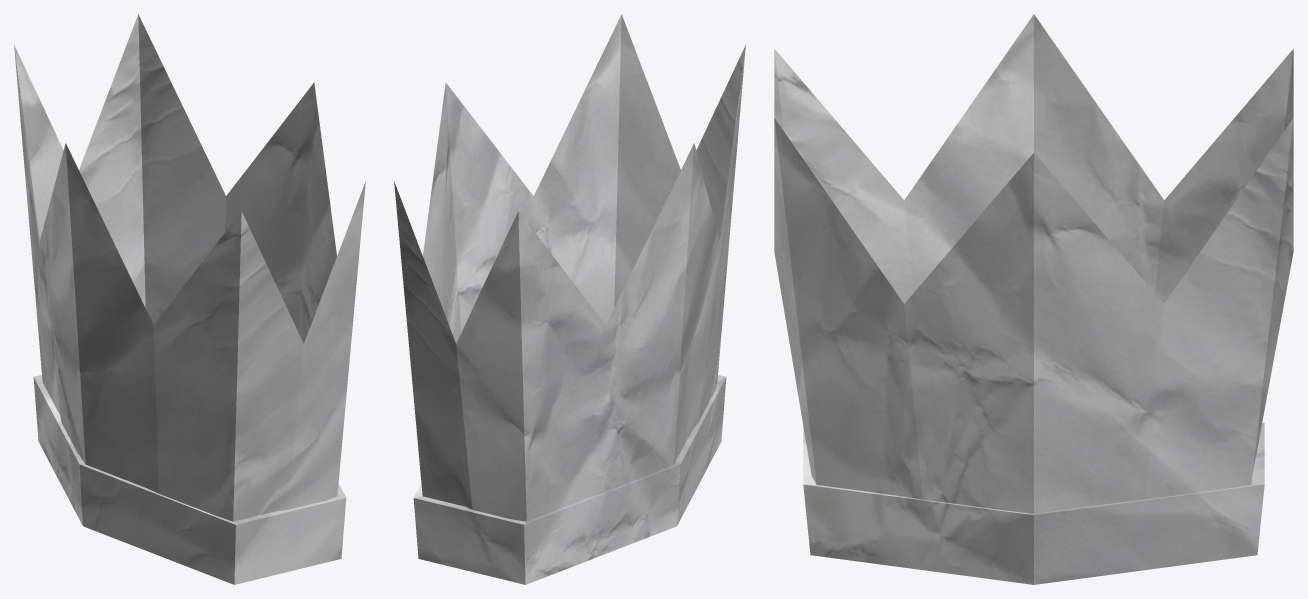
The model's file is PaperCrown_Wearable.fbx.
3 renders of one model, left to right at view 1: azimuth 30°, elevation 25°; view 2: azimuth 150°, elevation 25°; view 3: azimuth 270°, elevation 25°, orthographic. The views are drawn at different scales.
Visible parts, largest first — view 1: Torus; view 2: Torus; view 3: Torus.
Boxes of the visible parts, x1=… form: Torus: x1=14, y1=14, x2=365, y2=584; Torus: x1=394, y1=14, x2=745, y2=584; Torus: x1=774, y1=14, x2=1293, y2=584.
Size of the model in its own units: 0.1422 by 0.212 by 0.2255.
